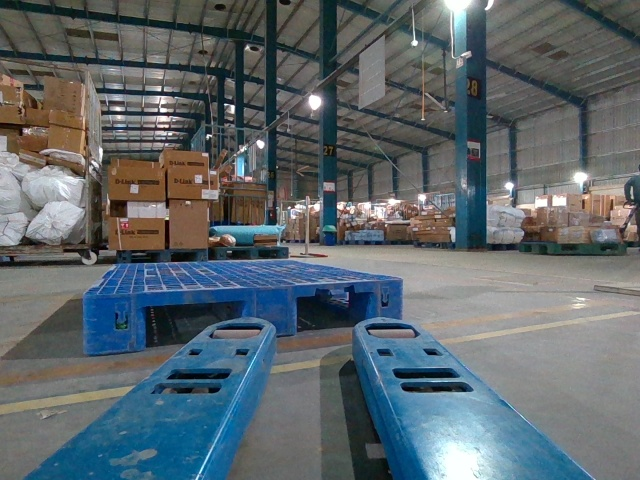block: (82, 292, 148, 357), (247, 285, 300, 337), (375, 276, 404, 320)
front: (84, 278, 403, 354)
hole pallet: (142, 296, 246, 349), (295, 286, 381, 329)
